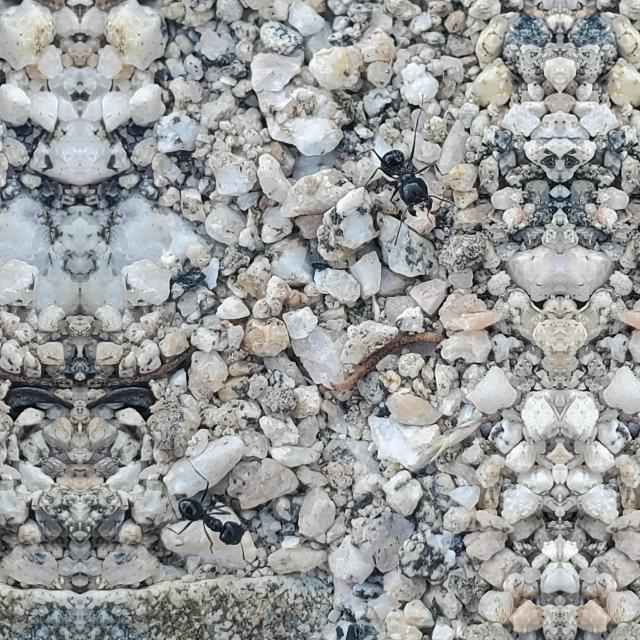Messor: (158, 477, 272, 565), (367, 142, 438, 230)
